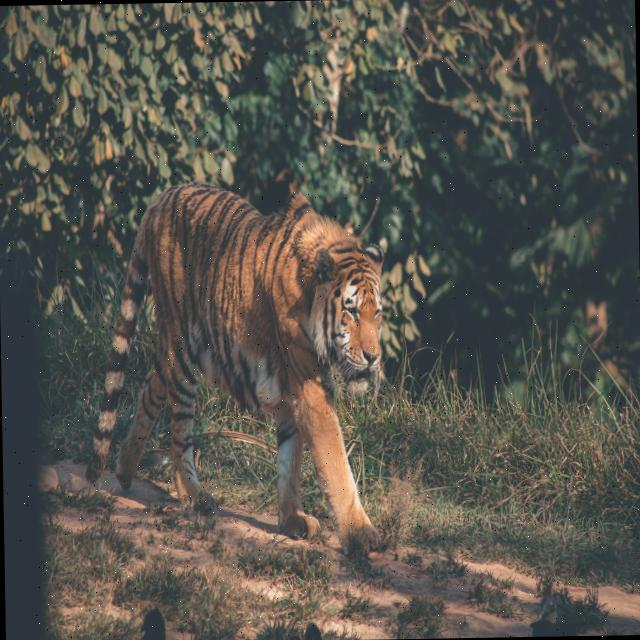Tiger: (82, 175, 390, 564)
